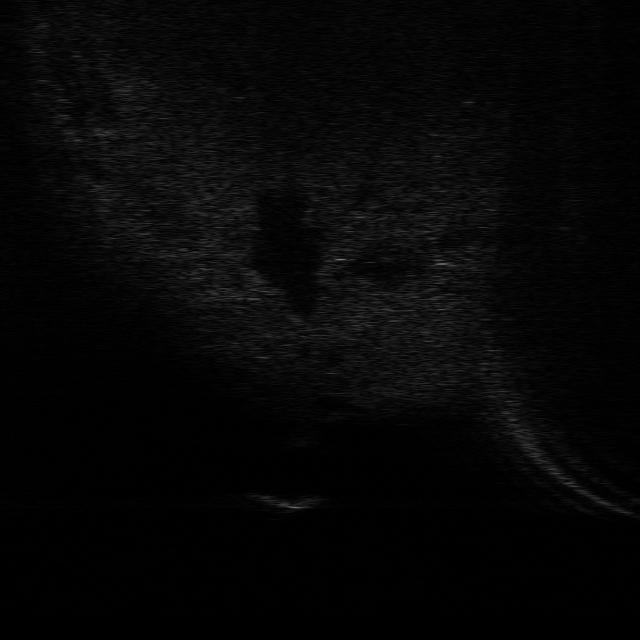cube: (242, 491, 326, 513)
